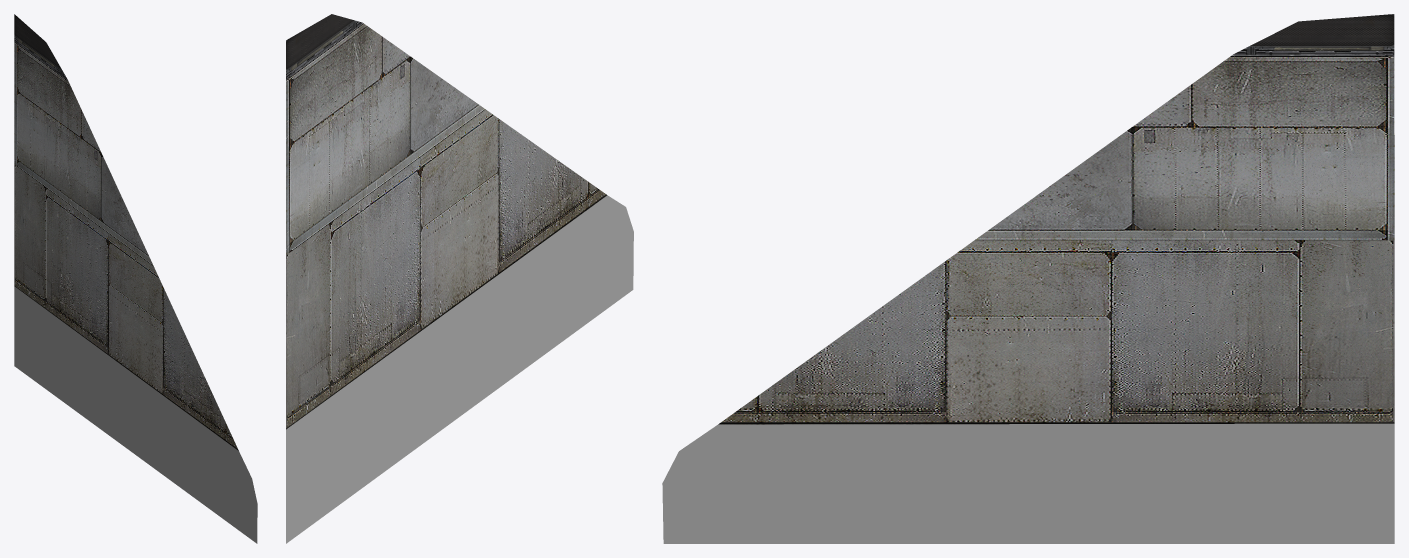
Rendered from Wall_A_Mid4mts_03.fbx.
3 renders of one model, left to right at view 1: azimuth 30°, elevation 25°; view 2: azimuth 150°, elevation 25°; view 3: azimuth 270°, elevation 25°, orthographic. The views are drawn at different scales.
Parts seen in each view (by area): view 1: Wall_A_Mid4mts_03; view 2: Wall_A_Mid4mts_03; view 3: Wall_A_Mid4mts_03.
Part boxes in pixels (<box>): Wall_A_Mid4mts_03: <box>14,14,257,543</box>; Wall_A_Mid4mts_03: <box>286,14,633,543</box>; Wall_A_Mid4mts_03: <box>662,14,1394,543</box>.
Bounding box in the file's own units: 0.0439 × 400 × 501.
